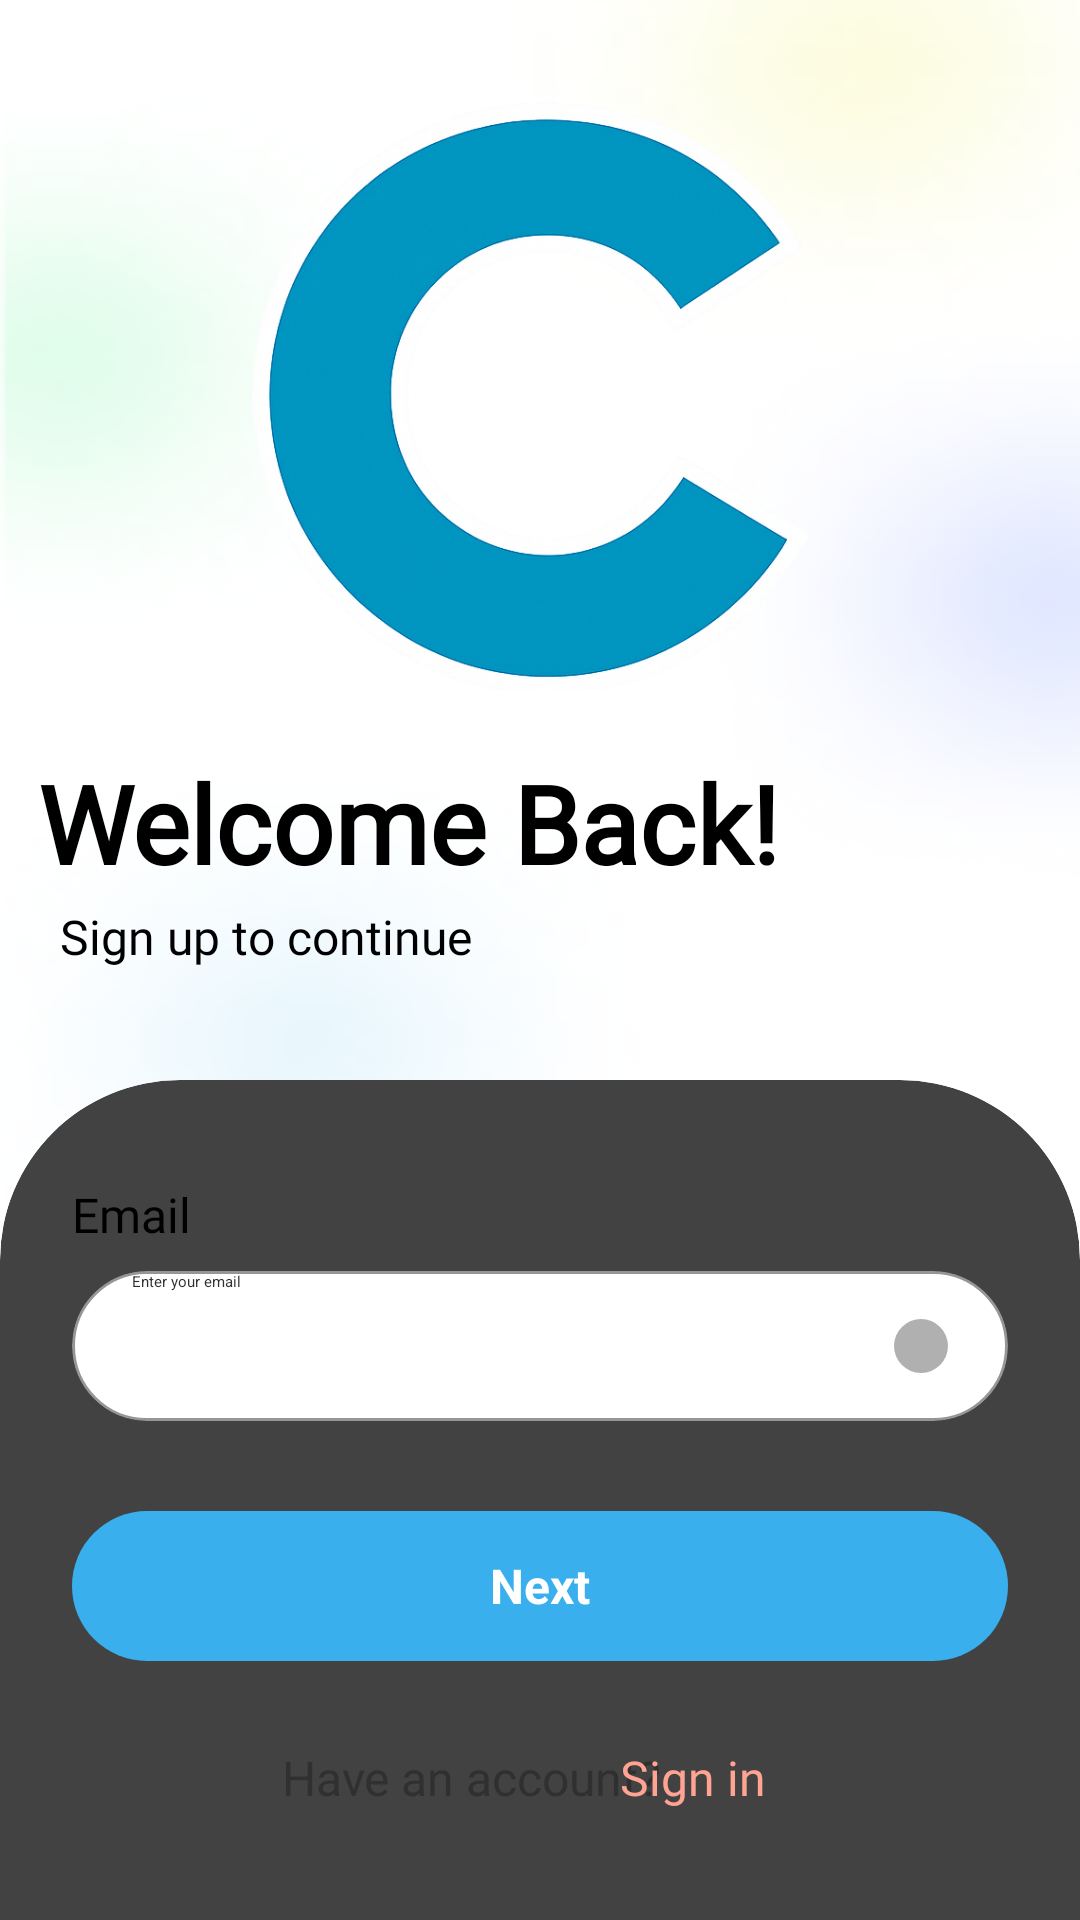

Where icons sit on this 1080px x 1920px app screen, as (x1, y1, x2, y2):
dot: (894, 1319, 948, 1373)
